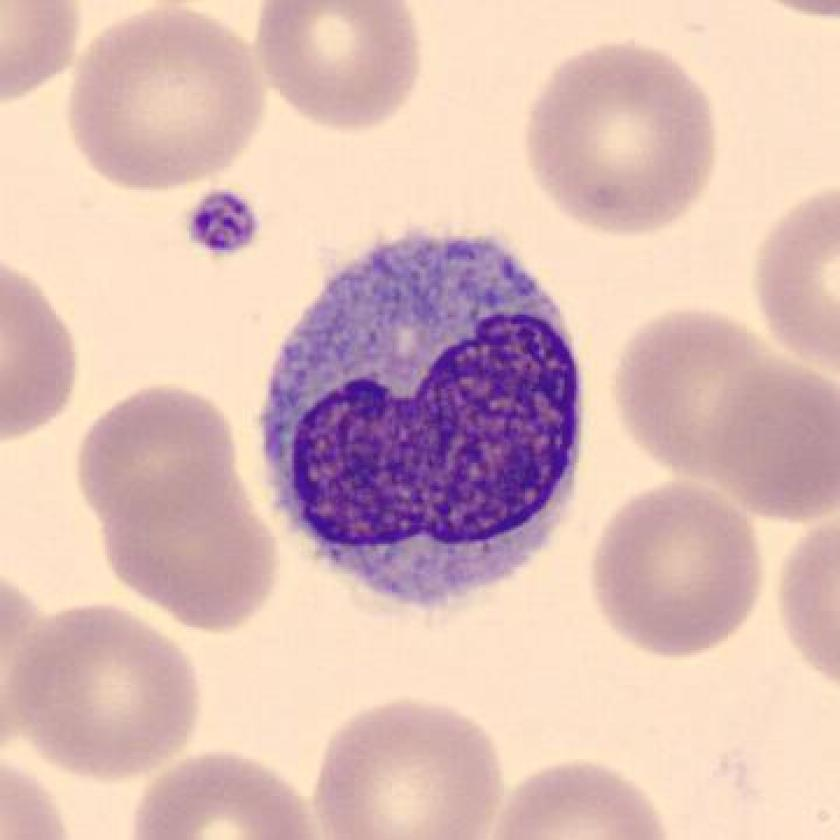monocyte: (239, 214, 612, 630)
